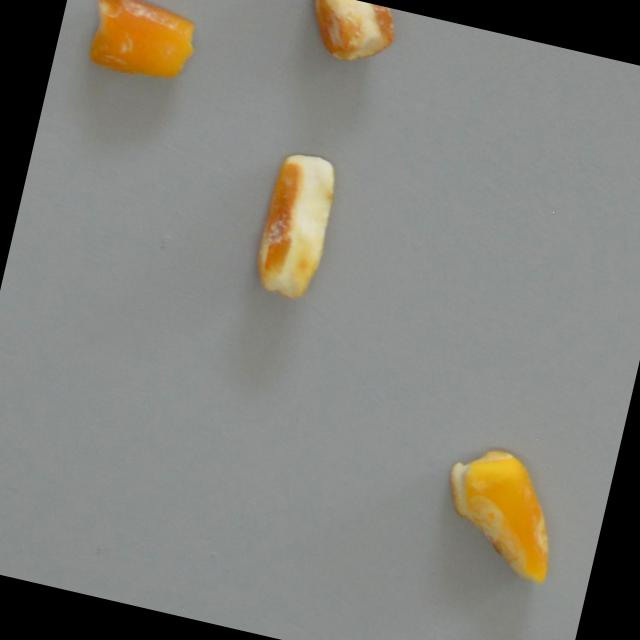dañado: (428, 436, 576, 592), (246, 147, 345, 306), (295, 0, 401, 73)
pelicula: (77, 0, 205, 90)
